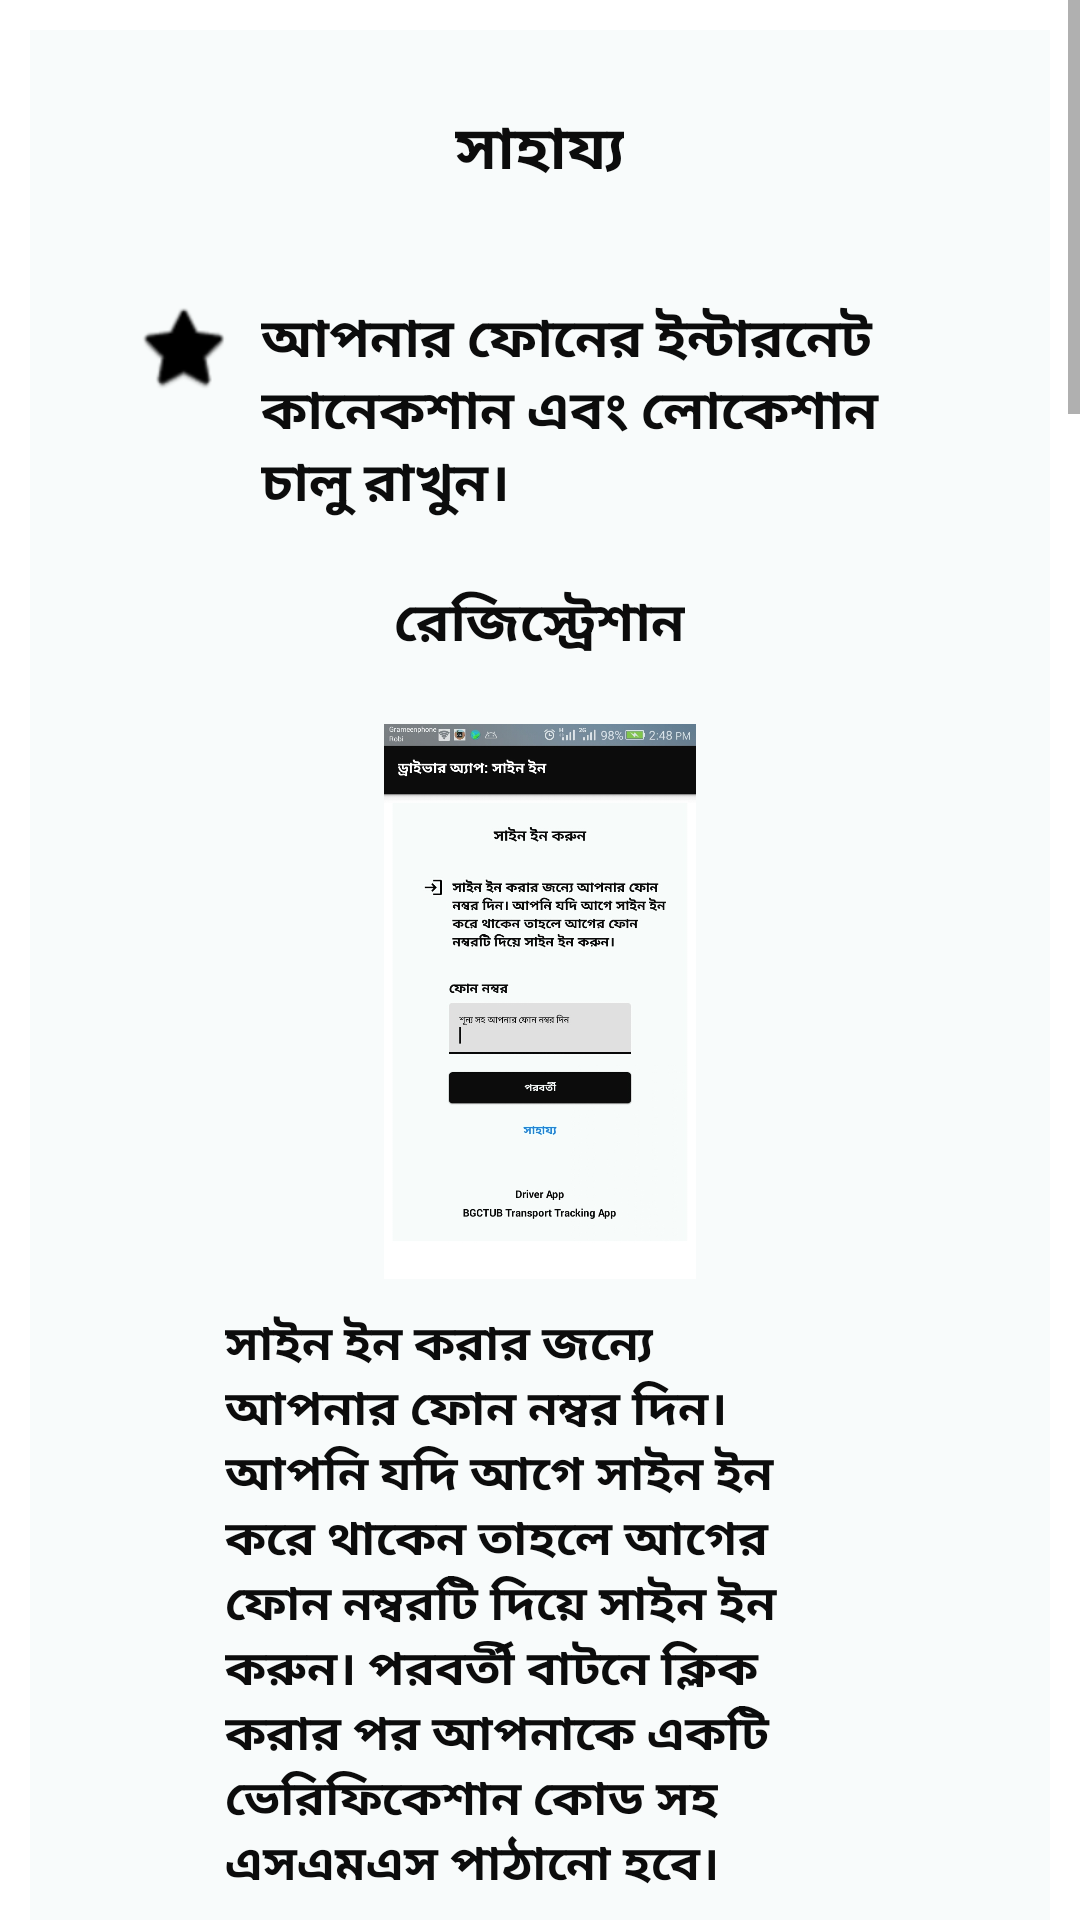

Point at icon controls on the screen. Image size 1080x1920, points as (x,y).
star: (184,348)
